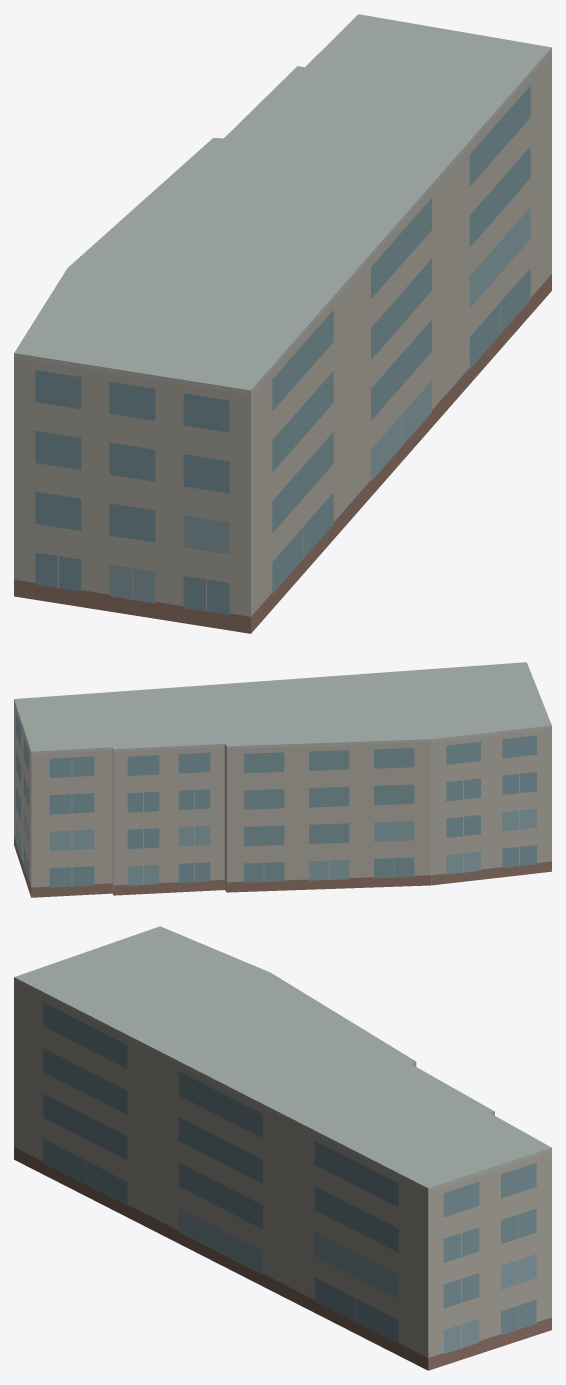
File: survey-upis-33040006.glb
3 renders of one model, top to bottom at view 1: azimuth 30°, elevation 25°; view 2: azimuth 150°, elevation 25°; view 3: azimuth 270°, elevation 25°, orthographic. The views are drawn at different scales.
Parts seen in each view (by area): view 1: survey-upis-33040006.tmp; view 2: survey-upis-33040006.tmp; view 3: survey-upis-33040006.tmp.
Part boxes in pixels (<box>): survey-upis-33040006.tmp: <box>14,14,551,633</box>; survey-upis-33040006.tmp: <box>14,662,551,897</box>; survey-upis-33040006.tmp: <box>14,926,551,1370</box>.
Bounding box in the file's own units: 37.6 × 12.2 × 32.61.
